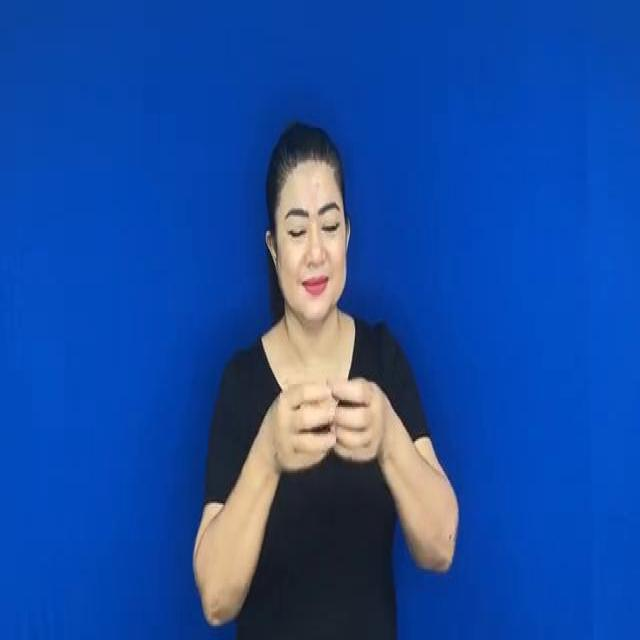egg: (254, 376, 405, 481)
